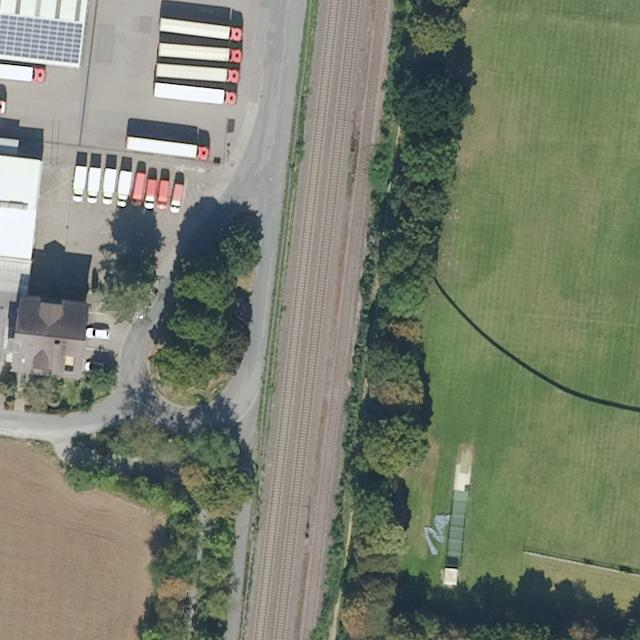PV: (1, 10, 90, 69)
